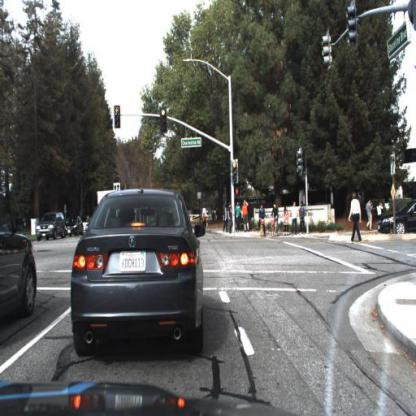biker: (255, 202, 269, 240), (267, 201, 281, 238)
car: (70, 188, 204, 360), (1, 185, 39, 322), (375, 199, 416, 235), (37, 213, 66, 240), (64, 214, 85, 237)
pedestrian: (348, 188, 365, 246), (364, 196, 376, 233), (241, 198, 252, 233), (289, 201, 298, 238), (282, 204, 291, 238), (201, 206, 211, 235), (299, 200, 307, 236), (222, 204, 230, 235), (226, 200, 233, 234), (236, 200, 243, 233), (222, 204, 229, 233), (376, 197, 383, 222), (377, 199, 385, 217)
trafficLight-Red: (230, 158, 241, 189), (158, 104, 168, 136)
trafficLight-RedLeft: (112, 104, 122, 131)
